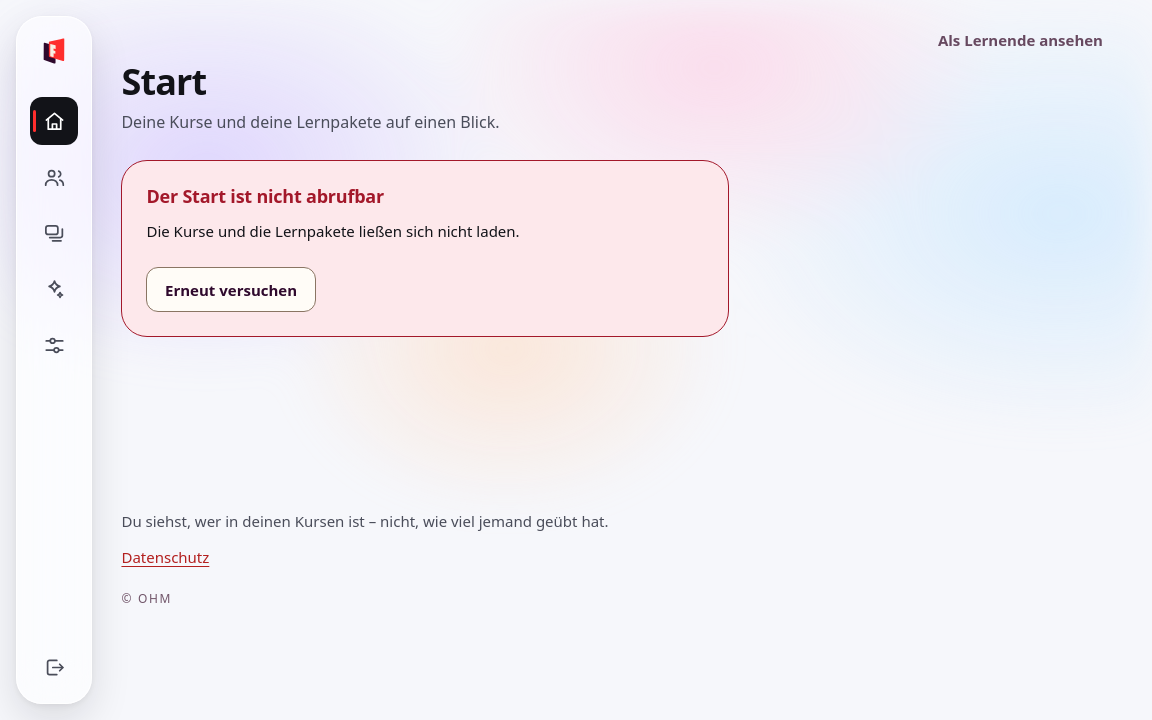
Test: der Start zeigt, was es gibt › bricht das Laden ab, erklärt der Start es und bietet einen zweiten Versuch
This screenshot has width=1152, height=720.
Expected: the element with test id "error-state" is shown, left=121, top=160, right=729, bottom=337
Click the button "Erneut versuchen" at (231, 290), box left=146, top=267, right=316, bottom=312
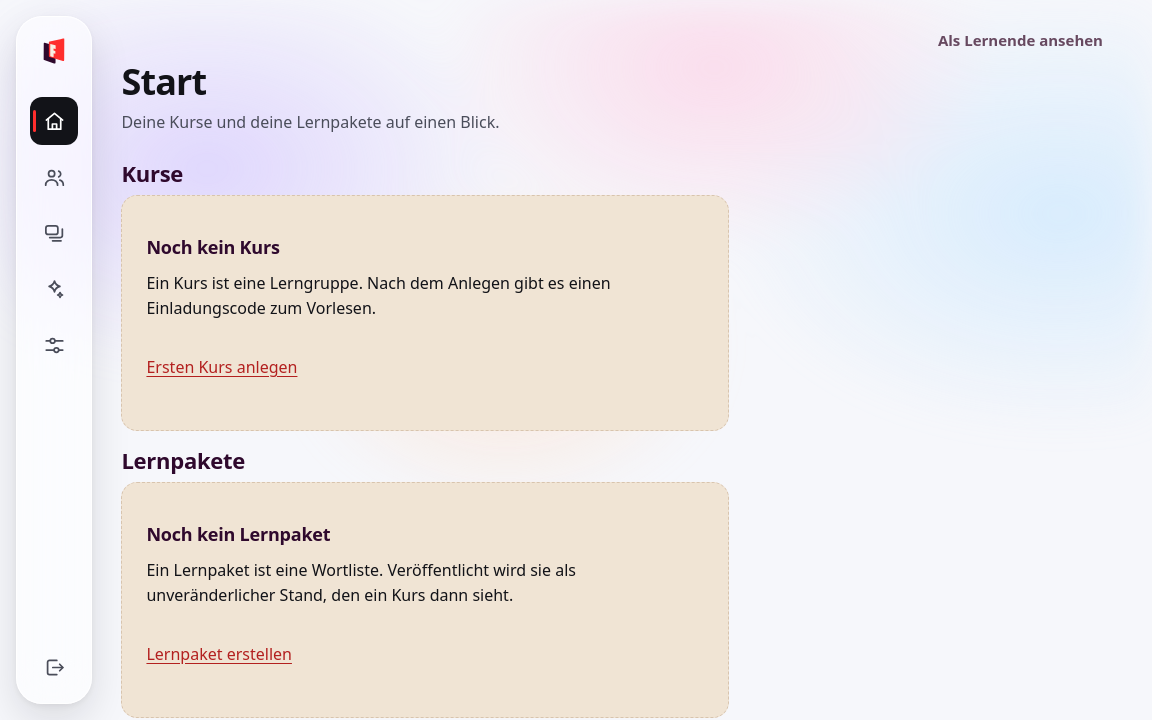
Expected: the heading "Noch kein Kurs" is shown, left=146, top=236, right=280, bottom=259
